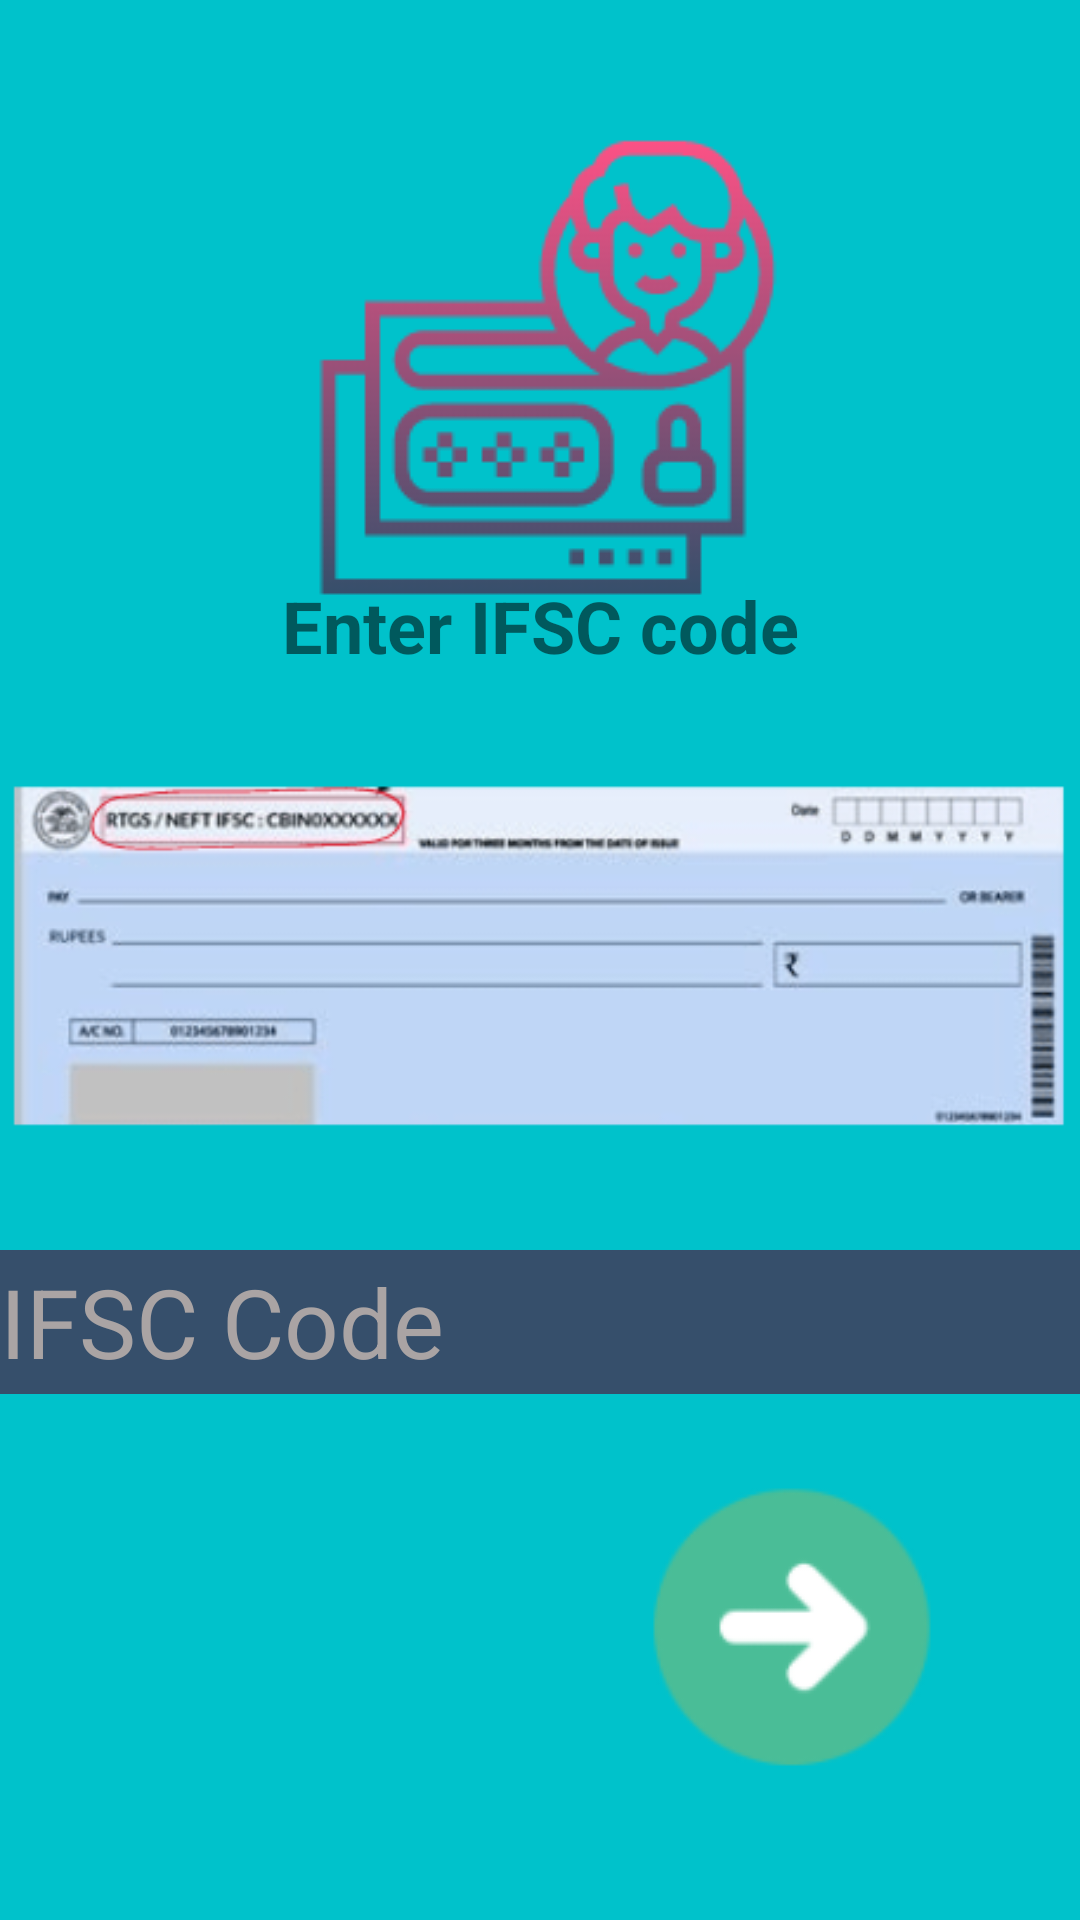

Where to tap for icons on this 1080 x 1920 app screen, as (x,y):
nextt: (792,1627)
